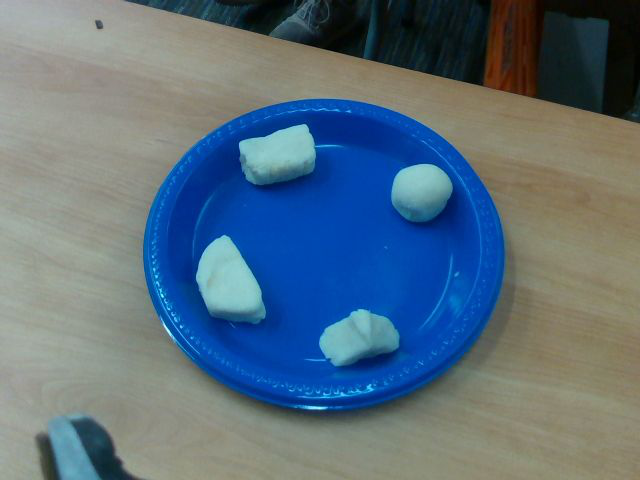mashed_potato: (194, 236, 265, 323), (239, 124, 316, 184), (319, 309, 400, 366), (392, 164, 453, 223)
